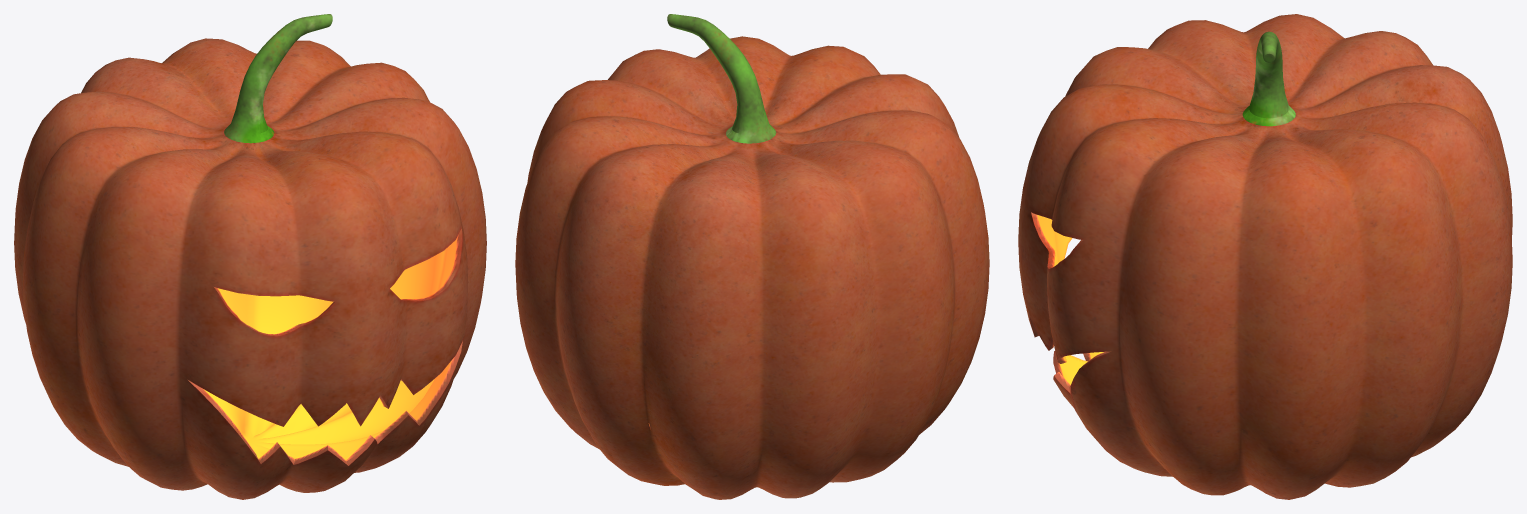
Rendered from uploads_files_5829155_PumpKing.fbx.
The picture shows the model from 3 angles, left to right: view 1: azimuth 30°, elevation 25°; view 2: azimuth 150°, elevation 25°; view 3: azimuth 270°, elevation 25°; orthographic projection. The views are drawn at different scales.
Visible parts, largest first — view 1: Sphere; view 2: Sphere; view 3: Sphere.
Part boxes in pixels (x1,y1,x2,y2): Sphere: (14,14,486,499); Sphere: (515,14,989,499); Sphere: (1018,14,1512,499).
Size of the model in its own units: 232 by 230 by 231.
